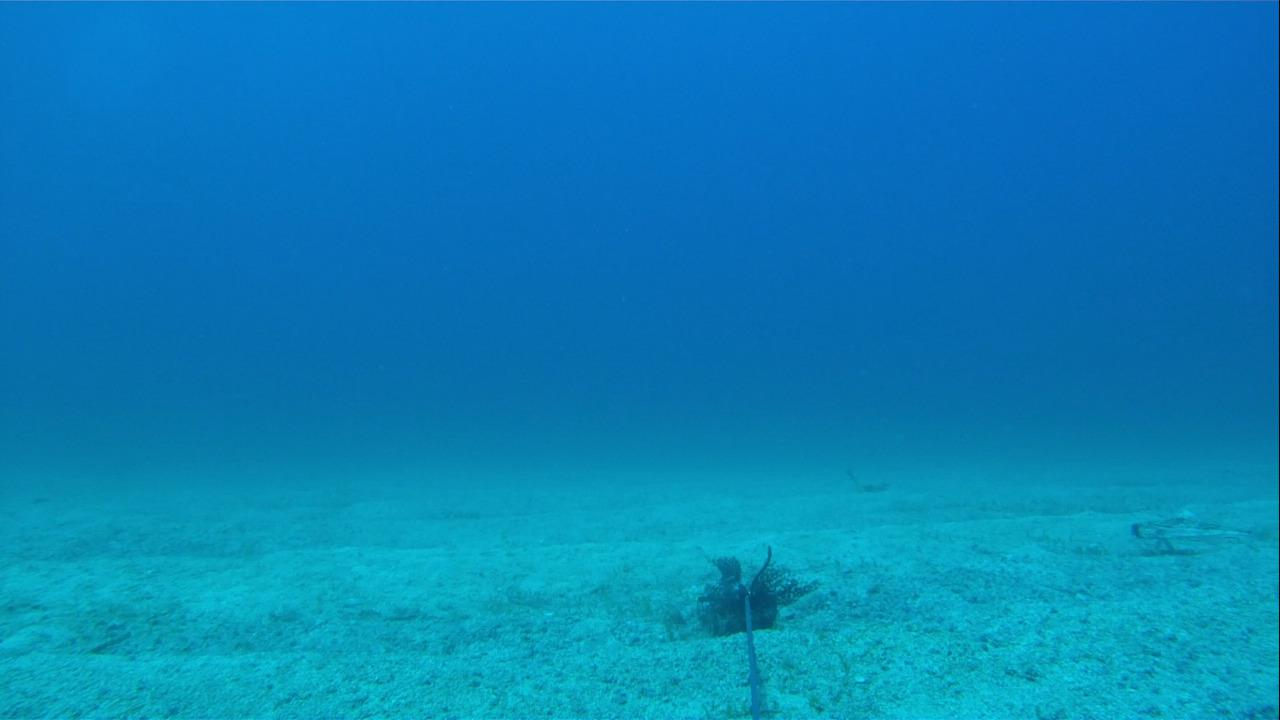dactylopterus: (1126, 504, 1269, 558)
